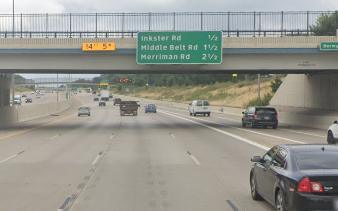1: (83, 42, 89, 50)
4: (87, 43, 93, 50)
5: (101, 42, 108, 50)
overheadsign: (80, 42, 116, 50)
